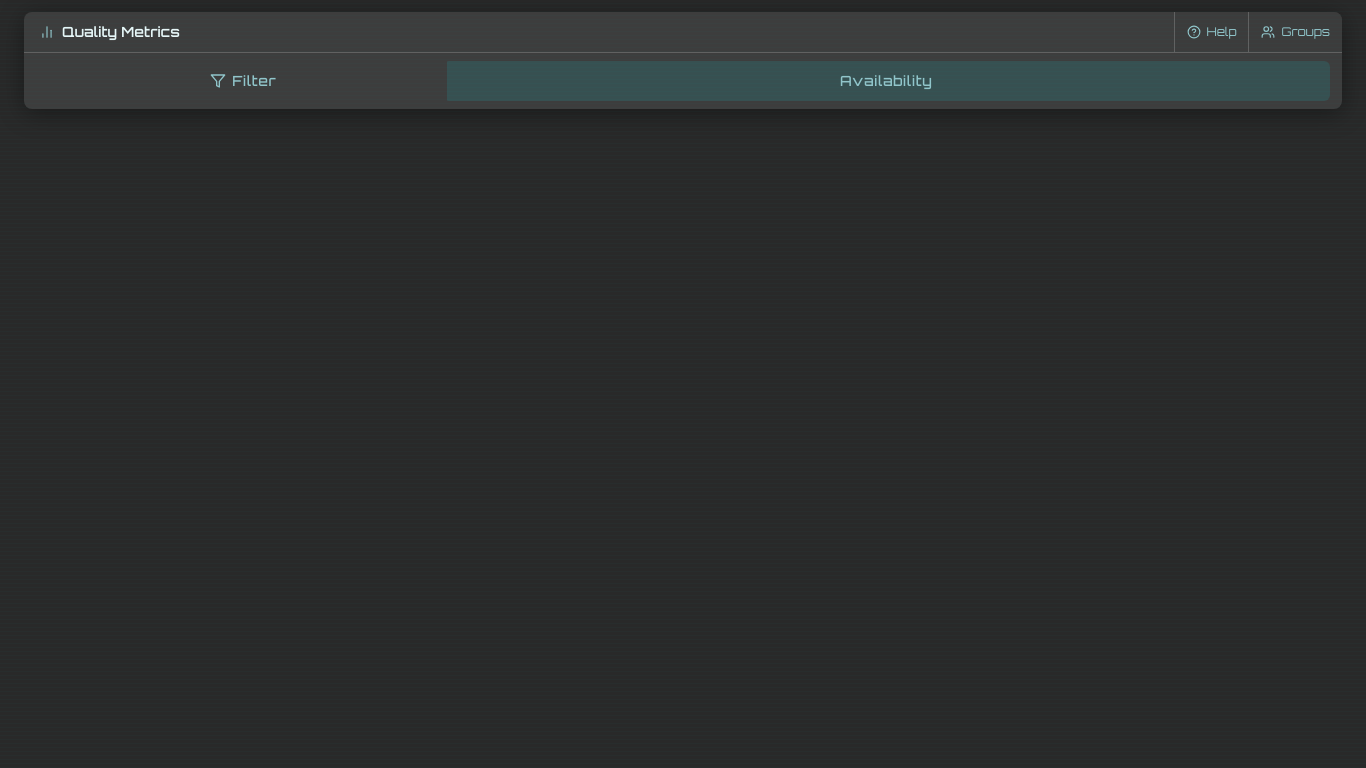
Scenario: MetricsView › lets visitors click a metric header to read its description without editing
Click the button "Availability": (886, 81) [443,61,1330,101]
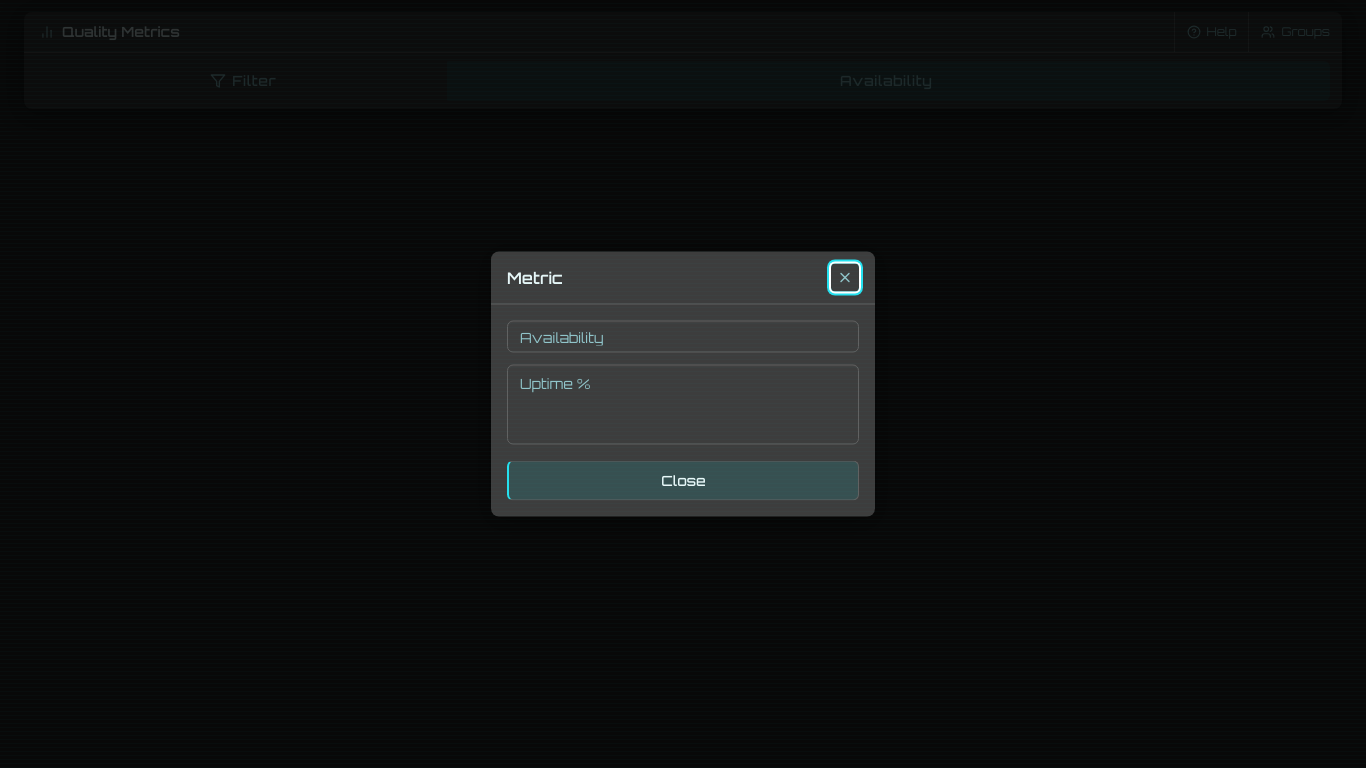
Now the text box showing "Uptime %" is shown, box [507,364,859,444]
